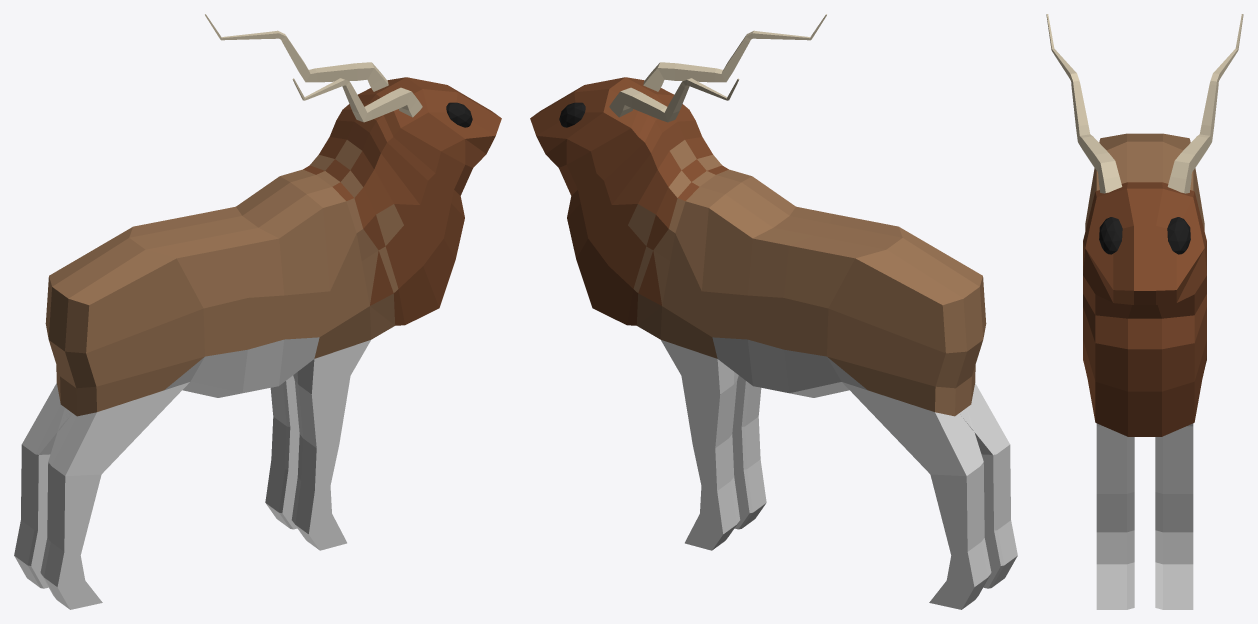
Rendered from antelope17.fbx.
The picture shows the model from 3 angles, left to right: view 1: azimuth 30°, elevation 25°; view 2: azimuth 150°, elevation 25°; view 3: azimuth 270°, elevation 25°; orthographic projection. The views are drawn at different scales.
Visible parts, largest first — view 1: Antilope; view 2: Antilope; view 3: Antilope.
Part boxes in pixels (box(x1,y1,x2,y2)): Antilope: box(14, 14, 501, 609); Antilope: box(530, 14, 1017, 609); Antilope: box(1046, 14, 1243, 609).
Size of the model in its own units: 400 by 129 by 386.
